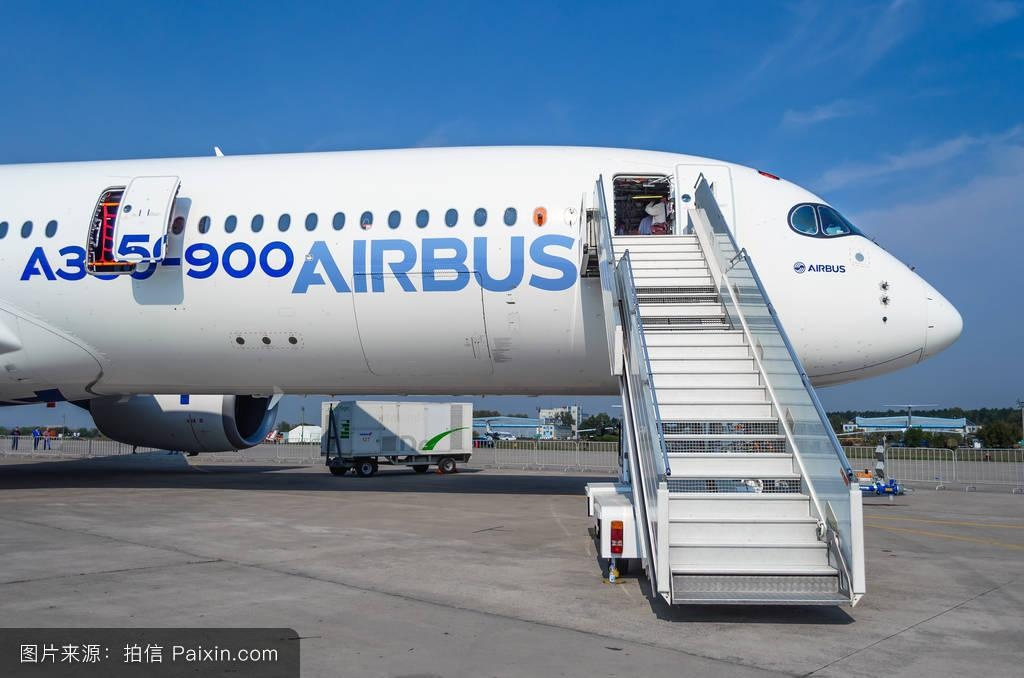airplane: (1, 142, 972, 467)
